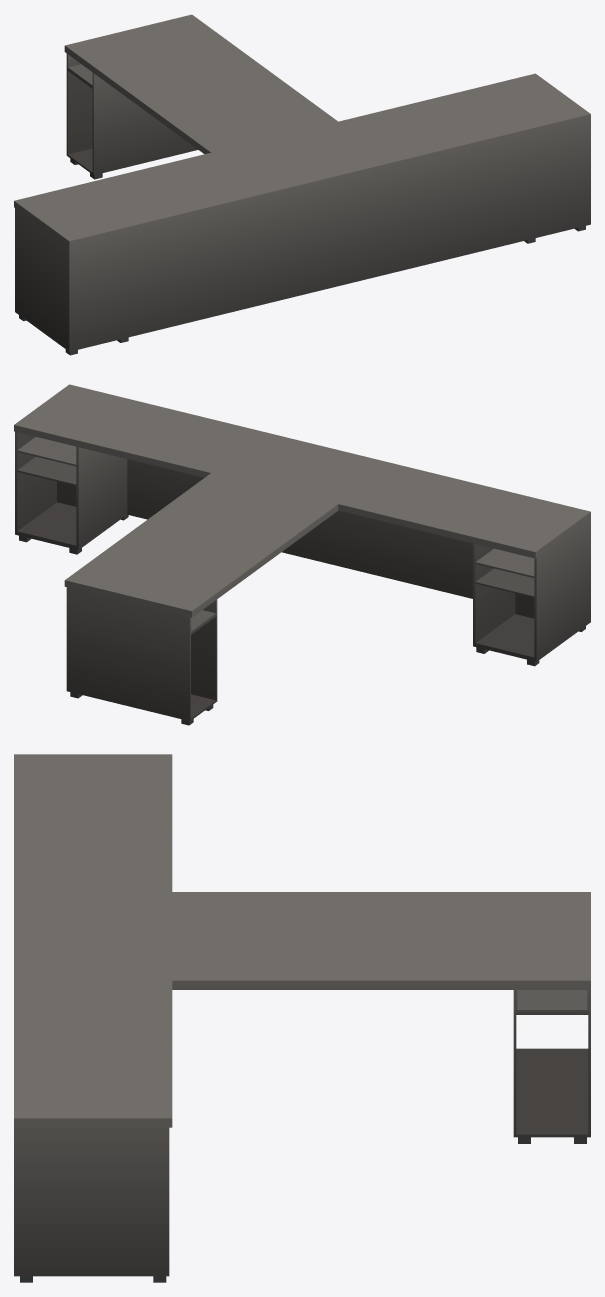
Rendered from Desk_Joined_A_Open_Gray.fbx.
The picture shows the model from 3 angles, top to bottom: view 1: azimuth 30°, elevation 25°; view 2: azimuth 150°, elevation 25°; view 3: azimuth 270°, elevation 25°; orthographic projection. The views are drawn at different scales.
Visible parts, largest first — view 1: Desk_Joined_A_Open_Gray; view 2: Desk_Joined_A_Open_Gray; view 3: Desk_Joined_A_Open_Gray.
Boxes of the visible parts, x1=… form: Desk_Joined_A_Open_Gray: x1=14, y1=14, x2=590, y2=355; Desk_Joined_A_Open_Gray: x1=14, y1=384, x2=590, y2=725; Desk_Joined_A_Open_Gray: x1=14, y1=754, x2=590, y2=1282.
Bounding box in the file's own units: 328 × 70 × 220.
